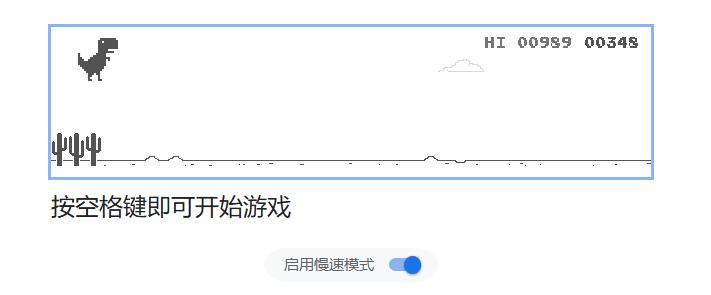cactus: (50, 132, 103, 167)
dino: (76, 36, 119, 82)
